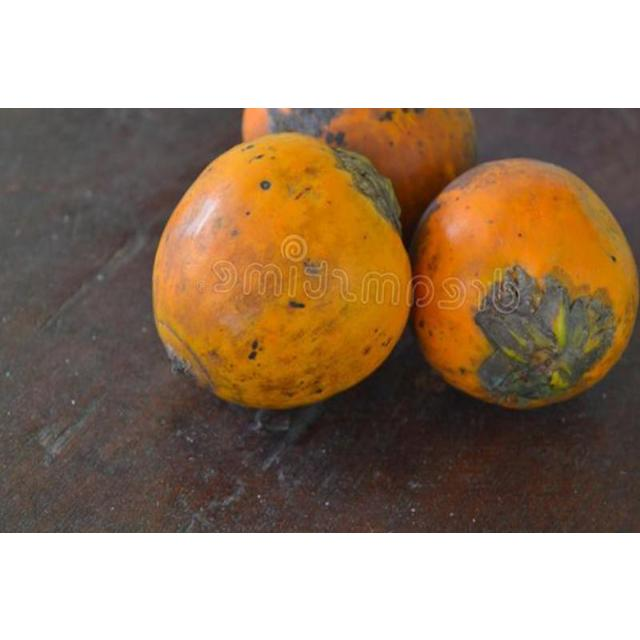good: (151, 133, 412, 411), (408, 157, 639, 411), (242, 107, 478, 246)
